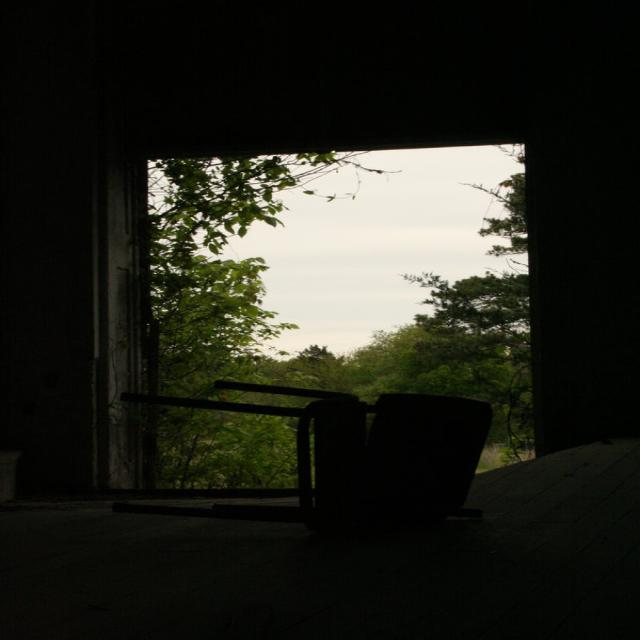chair: (125, 349, 534, 566)
